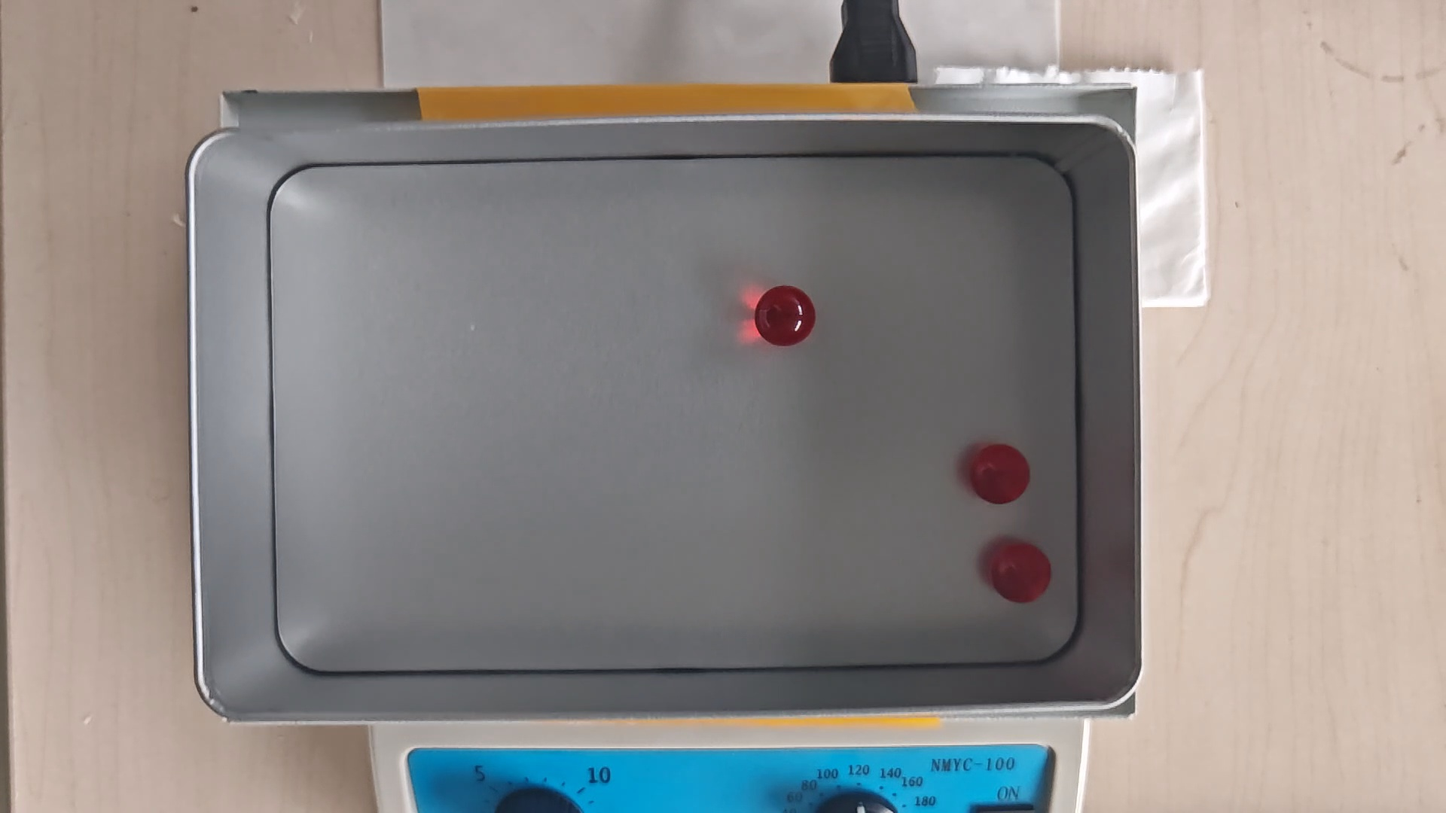ball: (991, 541, 1053, 607), (755, 285, 816, 348), (971, 443, 1030, 506)
container: (267, 161, 1078, 670)
